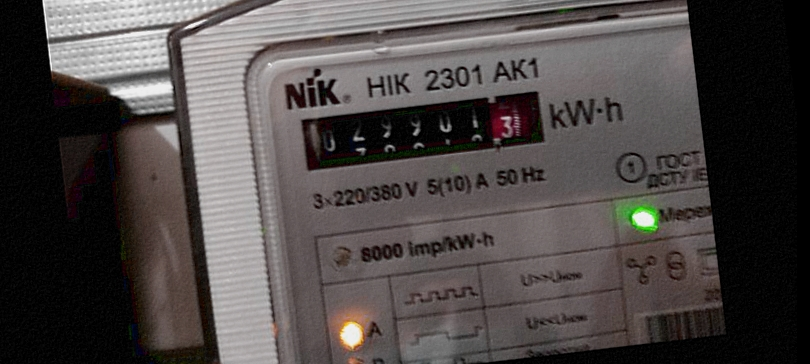0: (318, 125, 339, 154), (435, 106, 455, 136)
1: (466, 101, 482, 131)
2: (347, 116, 368, 145)
3: (497, 112, 516, 140)
9: (377, 113, 396, 141), (408, 110, 424, 139)
screen: (291, 80, 557, 182)
